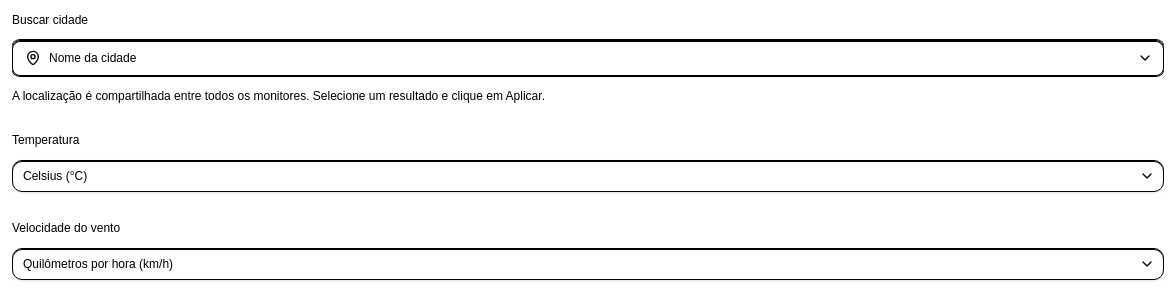
Test: persists the exact city chosen via mouse among namesakes in different countries
Type "Rio Grande" into the dropdown labelled "Buscar cidade". click: x=587, y=58
box: [41, 40, 1133, 76]
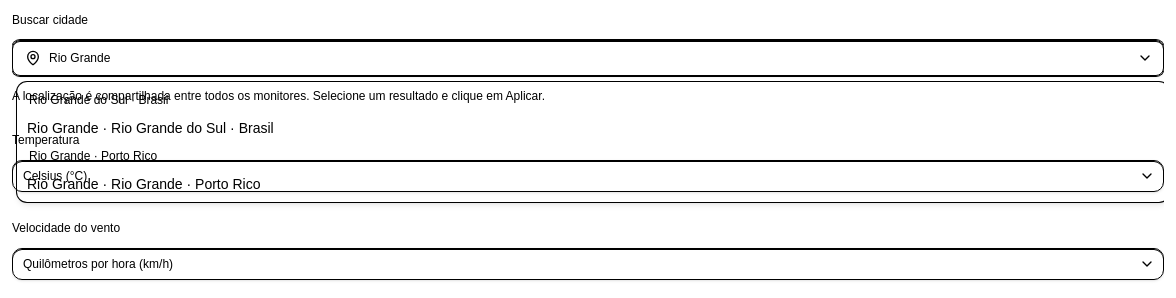
Click the option "Rio Grande · Rio Grande do Sul · Brasil". click: x=150, y=128
box: [27, 120, 274, 136]
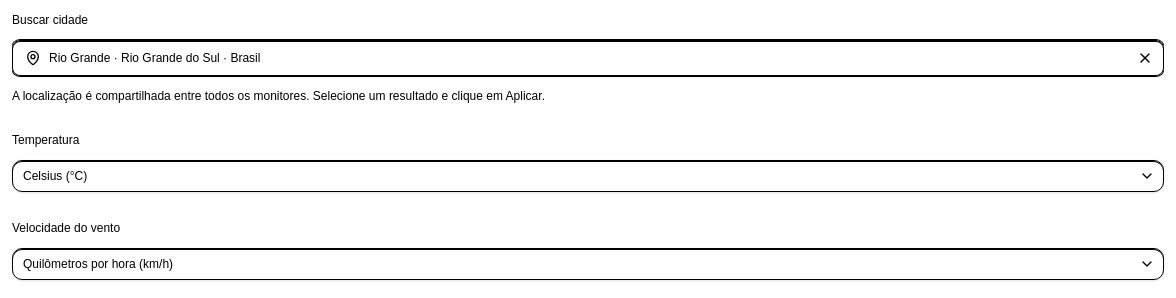
Expected: the dropdown labelled "Buscar cidade" holds "Rio Grande · Rio Grande do Sul · Brasil"
Replace the text in the dropdown labelled "Buscar cidade" with "Rio Grande". click: x=587, y=58
box: [41, 40, 1133, 76]
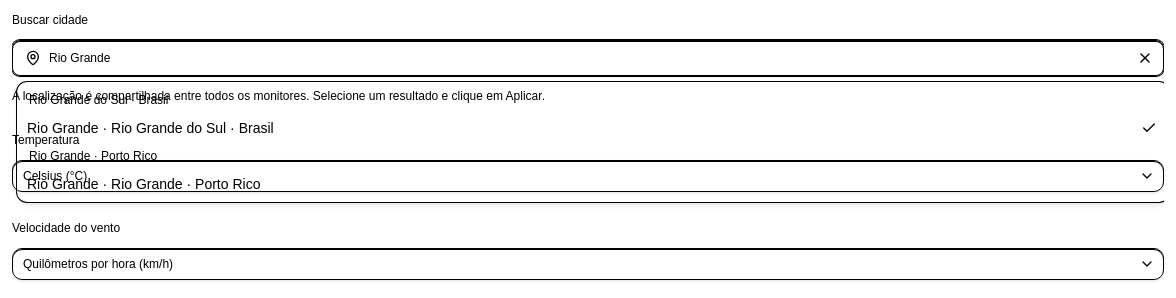
Click the option "Rio Grande · Rio Grande · Porto Rico". click: x=144, y=184
box: [27, 176, 260, 192]
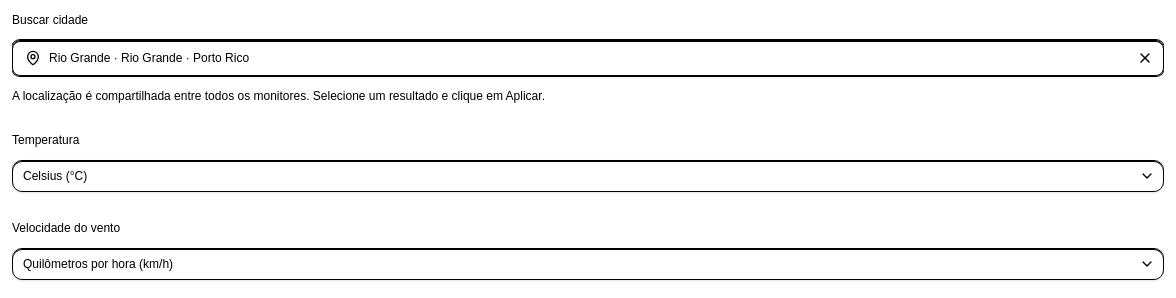
Expected: the dropdown labelled "Buscar cidade" holds "Rio Grande · Rio Grande · Porto Rico", [41, 40, 1133, 76]
